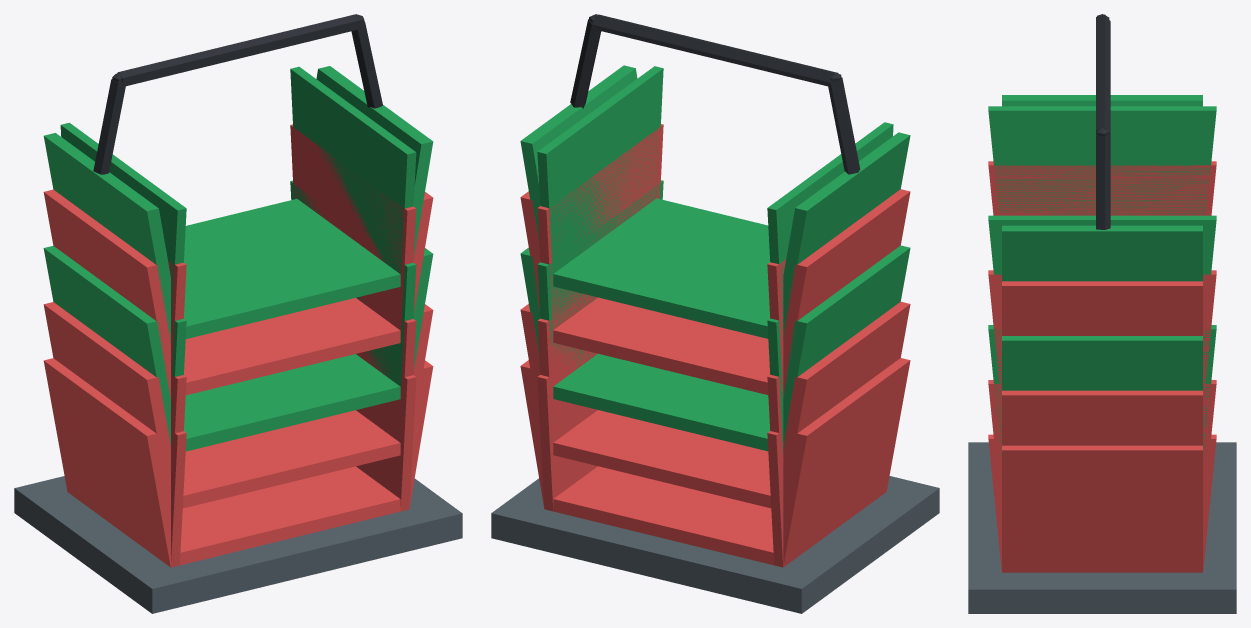
Rendered from shopping_baskets.glb.
3 views of the same model, side by side, from view 1: azimuth 30°, elevation 25°; view 2: azimuth 150°, elevation 25°; view 3: azimuth 270°, elevation 25° (orthographic). The views are drawn at different scales.
Visible parts, largest first — view 1: shopping_baskets; view 2: shopping_baskets; view 3: shopping_baskets.
Boxes of the visible parts, x1,y1,x2,y2 form: shopping_baskets: (14,14,462,613); shopping_baskets: (491,14,939,613); shopping_baskets: (968,14,1236,613).
Bounding box in the file's own units: 0.52 × 0.772 × 0.4.
